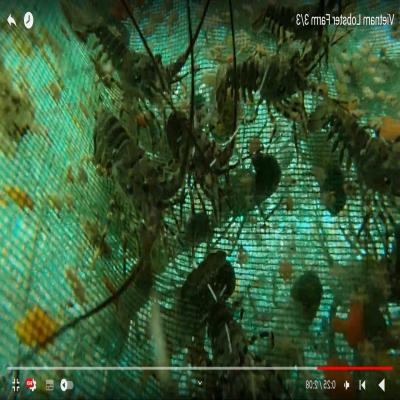lobster: (90, 27, 183, 119), (90, 116, 163, 228), (222, 49, 311, 140)
